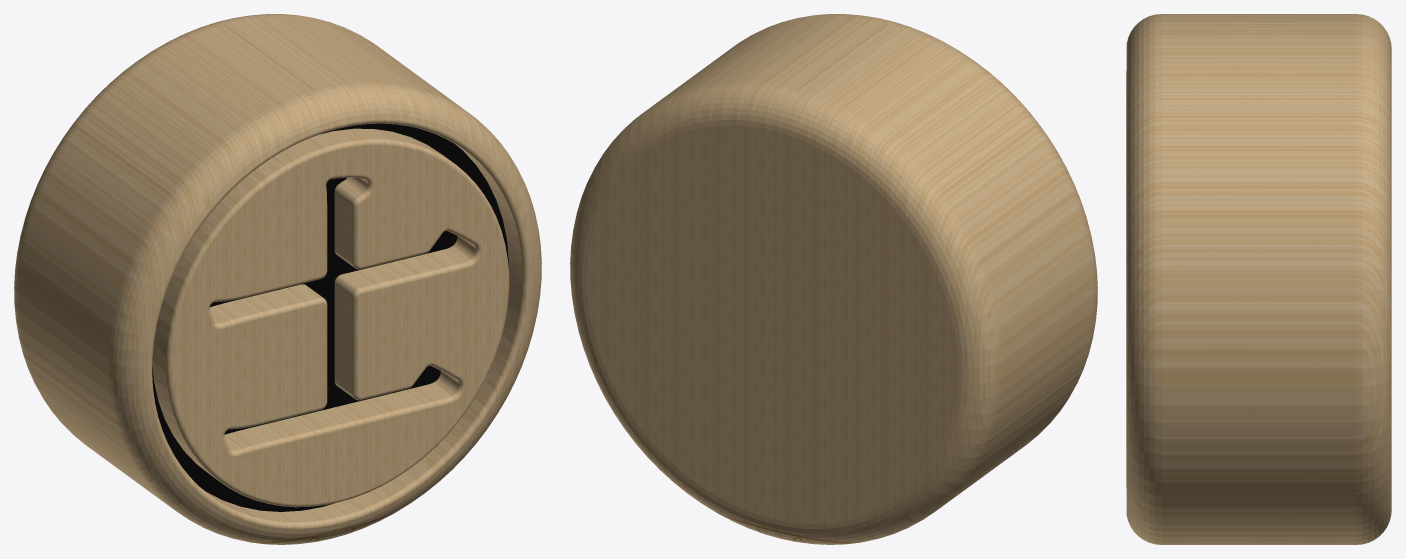
File: h01_chess_black_advisor.obj
3 views of the same model, side by side, from view 1: azimuth 30°, elevation 25°; view 2: azimuth 150°, elevation 25°; view 3: azimuth 270°, elevation 25° (orthographic). The views are drawn at different scales.
Size of the model in its own units: 0.03 by 0.03 by 0.015.
Materials: 2 (1 with a texture image).
